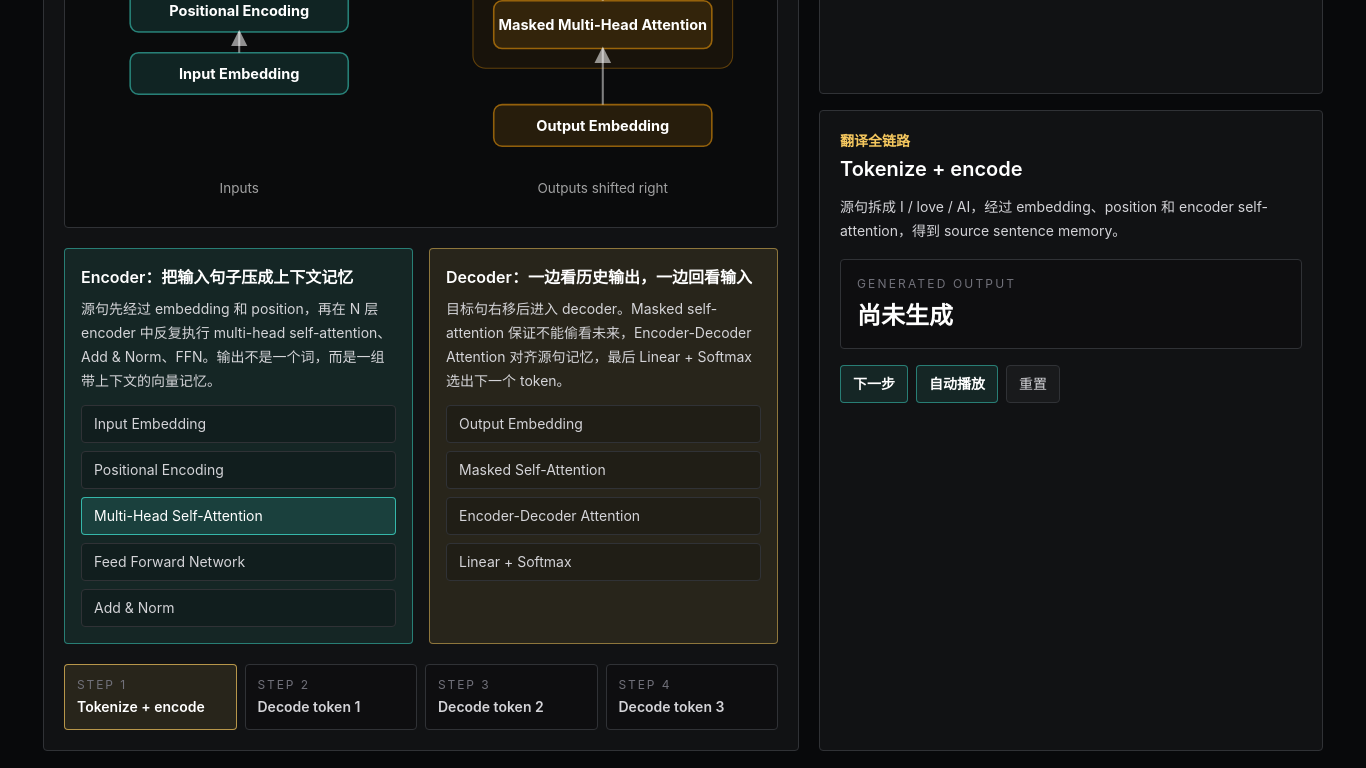
Test case: TransformerDemoPage › steps through the translation chain
(page scrolled)
Click the button "下一步".
click(874, 384)  # box 840,365 -> 908,403
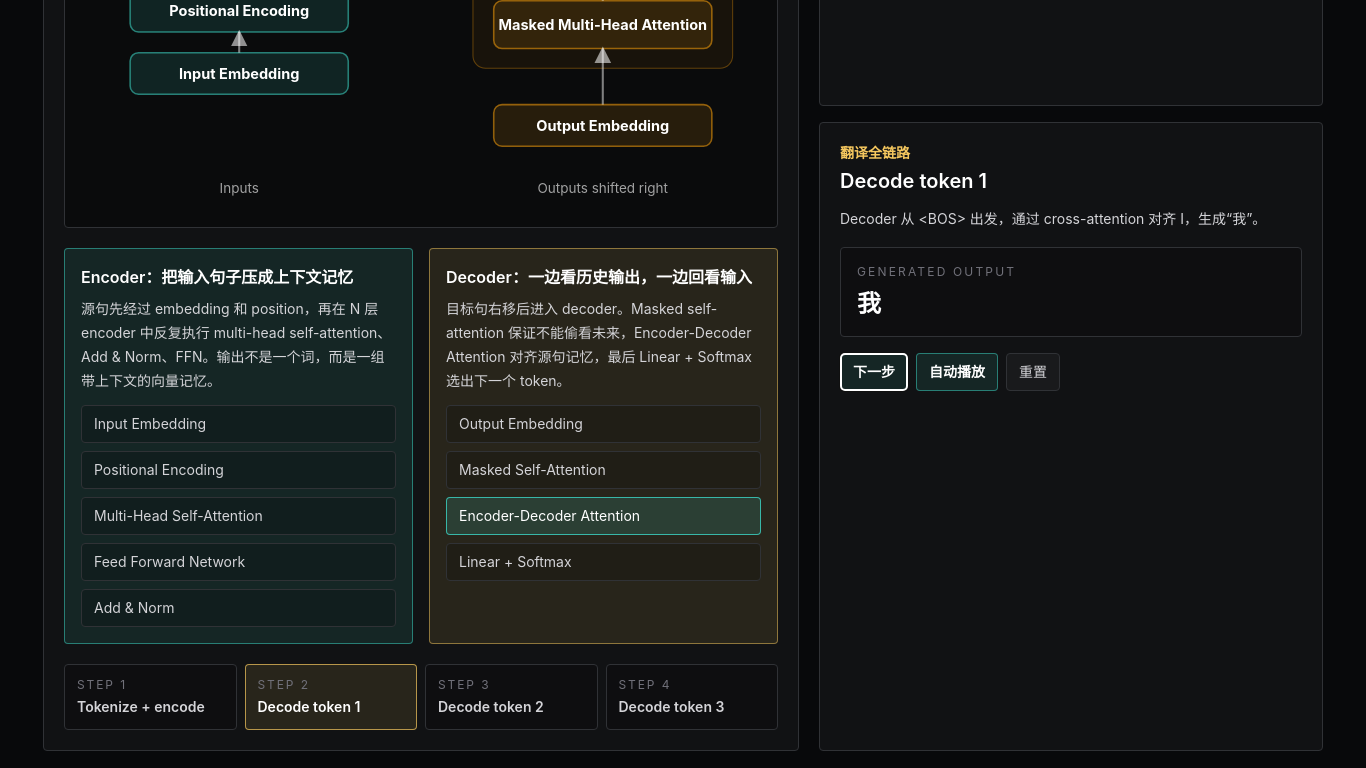
Check: the text with test id "translation-output" reads "我", box 857,289 -> 881,318
